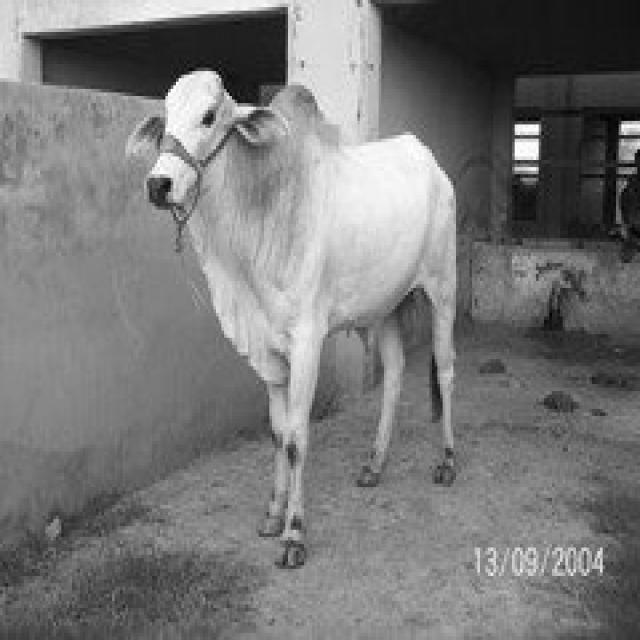Cow: (122, 64, 458, 565)
